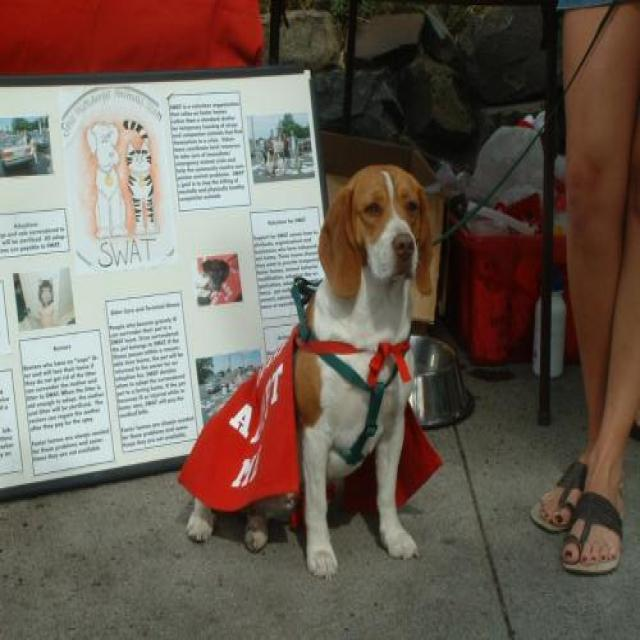Dogs: (180, 162, 438, 580)
